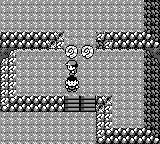captura: (1, 0, 160, 144)
leer: (65, 45, 78, 60), (81, 45, 94, 59)
main: (65, 60, 79, 76)
no-caminable: (96, 50, 159, 143), (1, 50, 63, 112), (96, 0, 159, 50), (1, 31, 64, 49)
npc: (65, 76, 79, 92)
